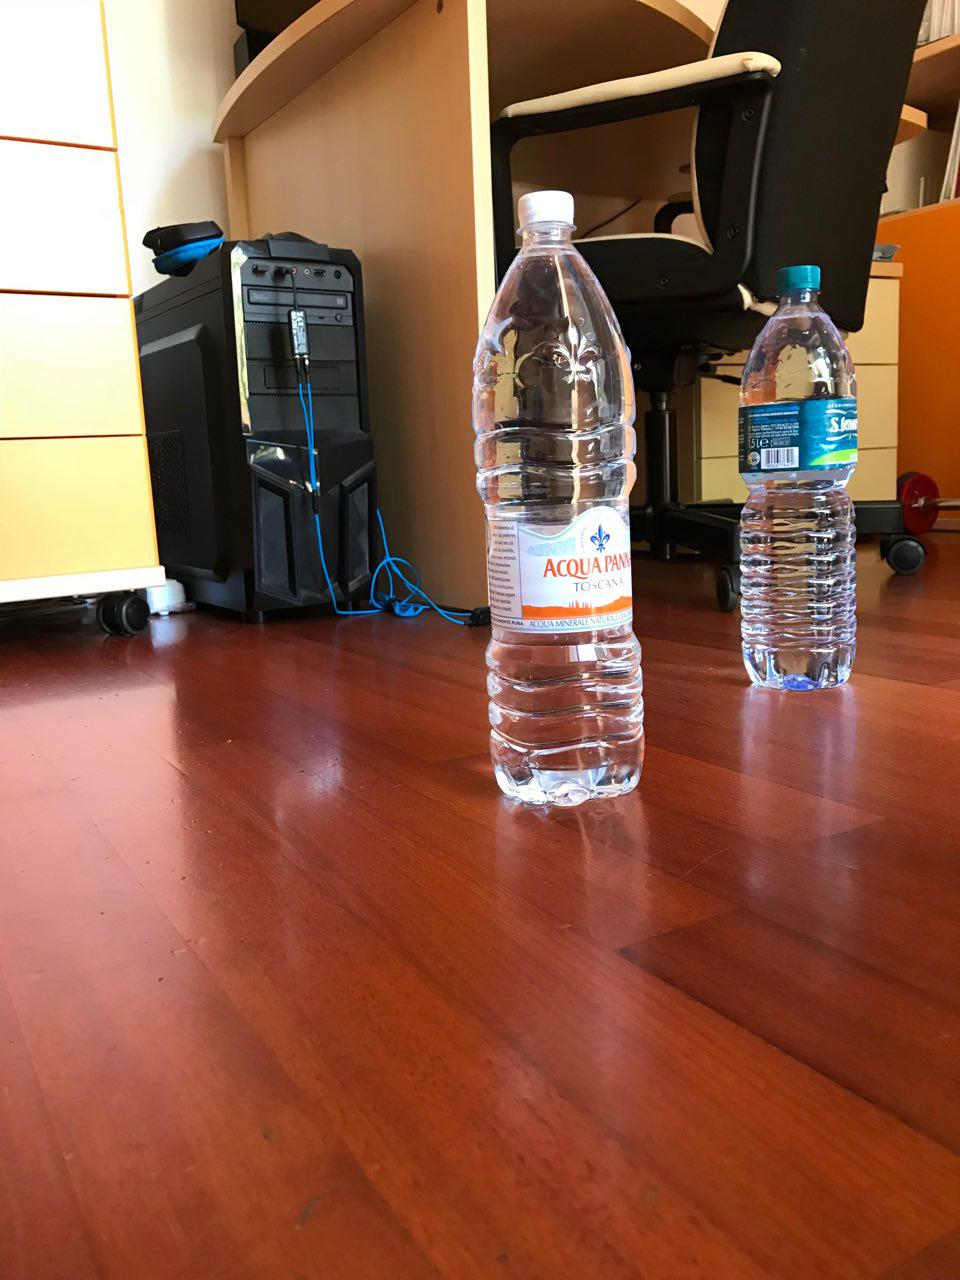san_bernardo: (737, 265, 859, 691)
